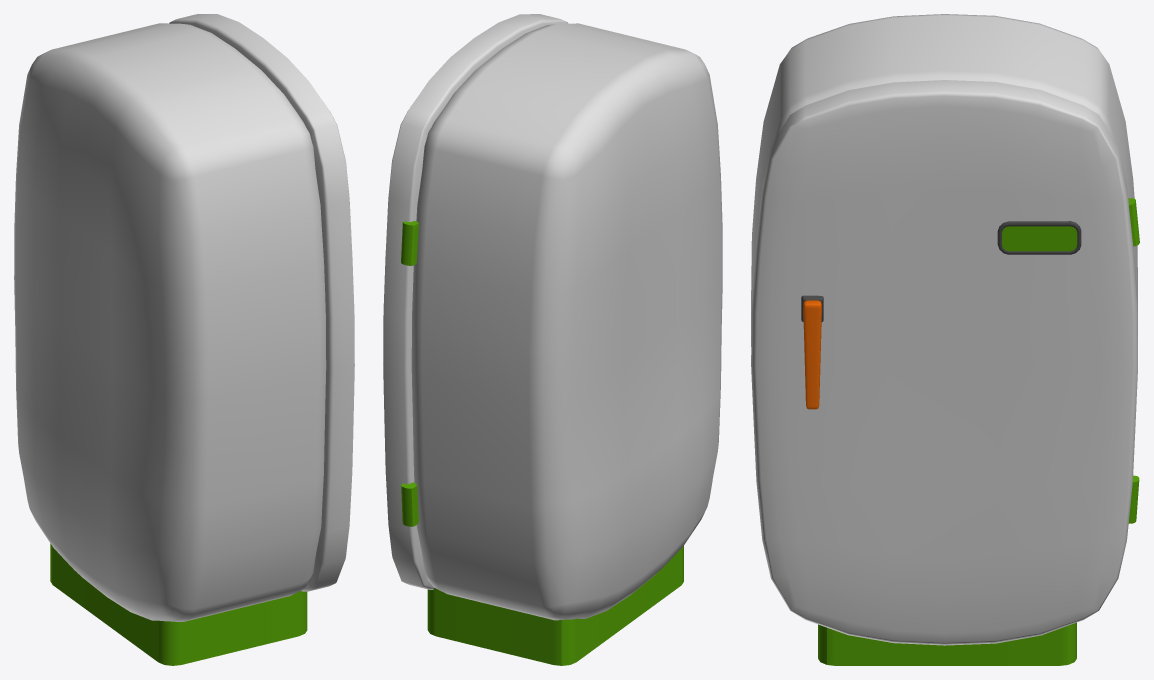
File: frize.fbx
3 views of the same model, side by side, from view 1: azimuth 30°, elevation 25°; view 2: azimuth 150°, elevation 25°; view 3: azimuth 270°, elevation 25° (orthographic). The views are drawn at different scales.
Visible parts, largest first — view 1: pCube1, polySurface5, pCube7; view 2: pCube1, polySurface5, pCube7, pCube3, pCube6; view 3: polySurface5, pCube1, pCube7, polySurface6, polySurface4, polySurface7.
Part boxes in pixels (box(x1,y1,x2,y2)): pCube1: box(14, 23, 326, 621); polySurface5: box(169, 14, 354, 591); pCube7: box(50, 543, 307, 665); pCube1: box(411, 23, 722, 620); polySurface5: box(383, 14, 568, 589); pCube7: box(427, 546, 683, 665); pCube3: box(401, 221, 418, 265); pCube6: box(401, 482, 418, 526); polySurface5: box(751, 80, 1137, 645); pCube1: box(751, 14, 1137, 346); pCube7: box(818, 622, 1076, 665); polySurface6: box(1002, 226, 1077, 251); polySurface4: box(803, 300, 821, 409); polySurface7: box(997, 221, 1081, 254).
Size of the model in its own units: 7.25 by 18.27 by 11.09.
